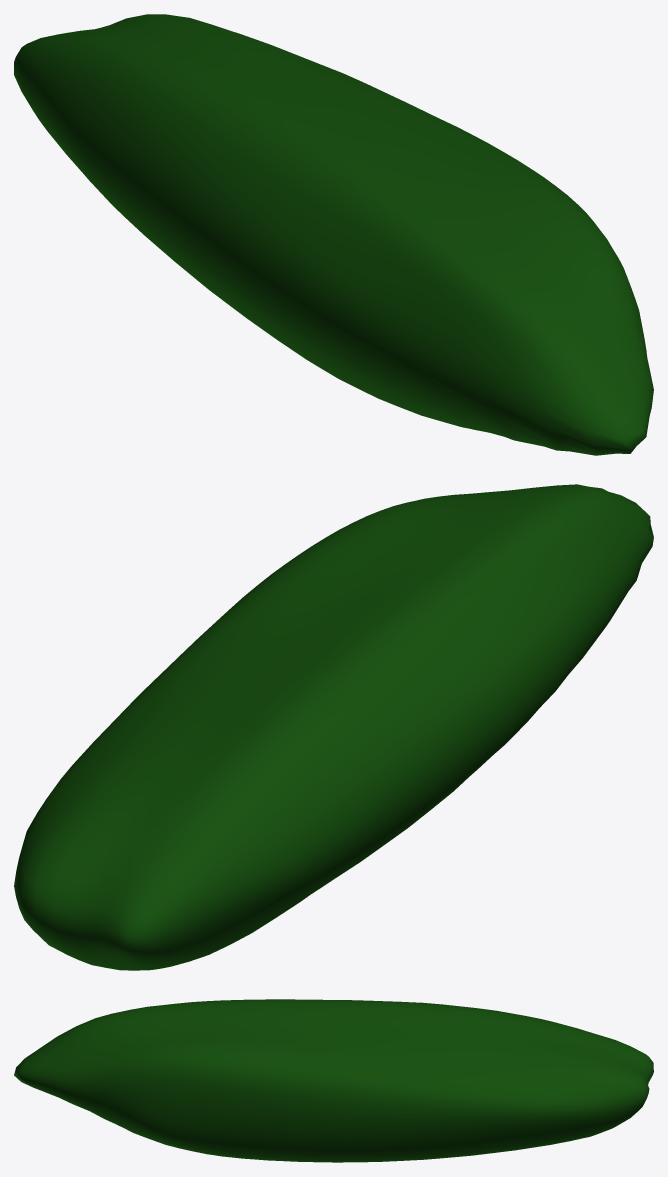
File: Feuilles_Obstacle.fbx
3 views of the same model, one above another, from view 1: azimuth 30°, elevation 25°; view 2: azimuth 150°, elevation 25°; view 3: azimuth 270°, elevation 25° (orthographic). The views are drawn at different scales.
Parts seen in each view (by area): view 1: Sphere.007; view 2: Sphere.007; view 3: Sphere.007.
Part boxes in pixels (x1,y1,x2,y2): Sphere.007: (14, 14, 653, 455); Sphere.007: (14, 484, 653, 970); Sphere.007: (14, 999, 653, 1162).
Bounding box in the file's own units: 128 × 105 × 446.
